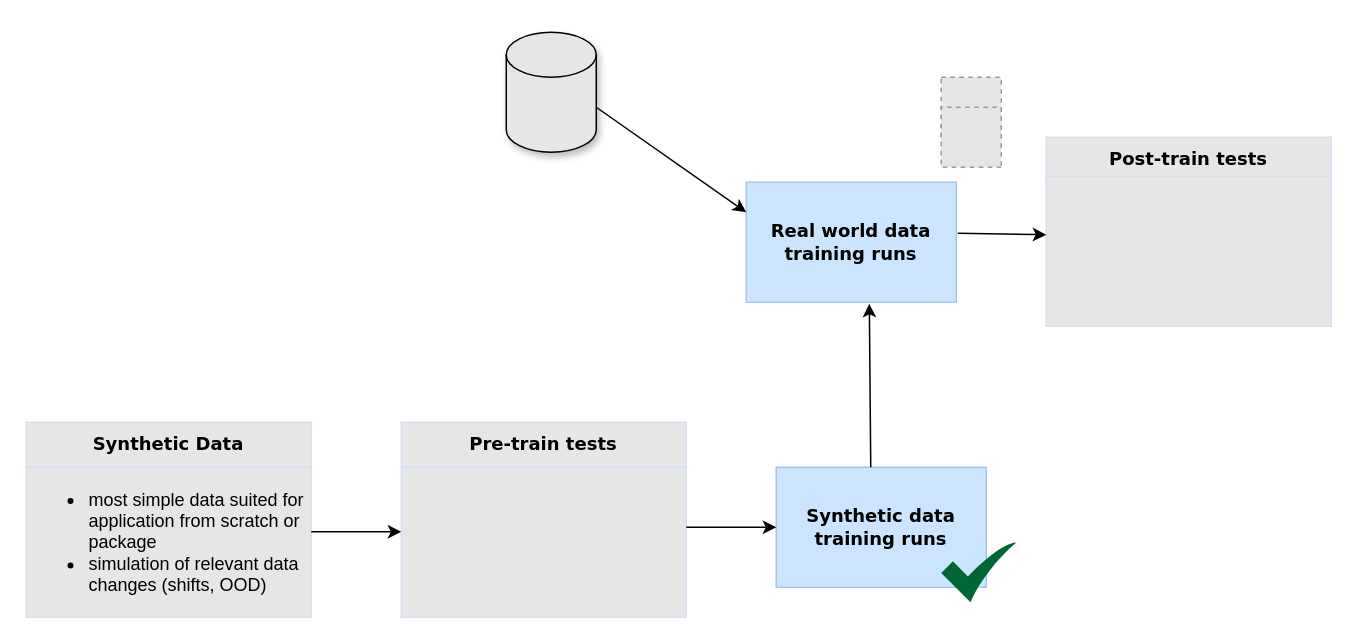
Image size: 1358x644. Some labels were removed from this diagram. Grey dashed boxes stand in for pictures. The shapes that lost their labels are listed below. From the top down, each one's centre as x and y in pixels, then its label:
At point 552,94: "Real World Data".
At point 1188,250: "weight analysis (mis-)label checks expected behavior/invariance checks".
At point 543,541: "dataset leakage input/output ranges overfitting on trivial cases".
